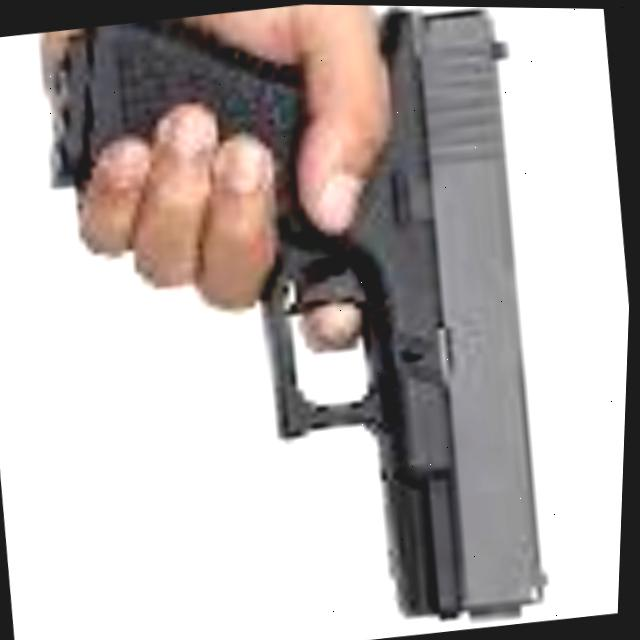pistol: (8, 0, 595, 640), (62, 3, 552, 617)
